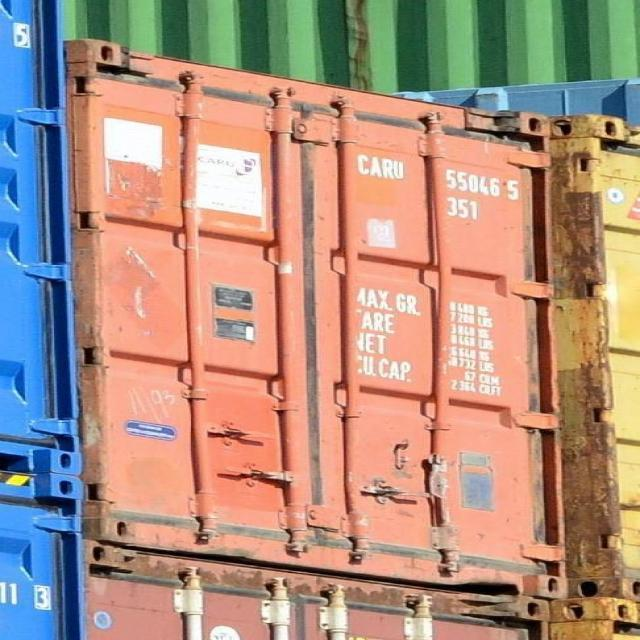ISO: (443, 194, 483, 222)
container_number: (356, 150, 522, 202)
